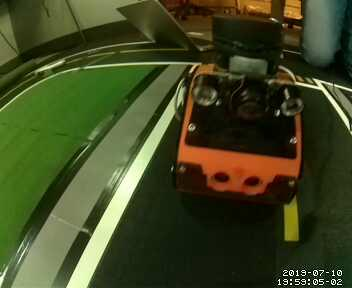pheeno: (174, 18, 307, 208)
